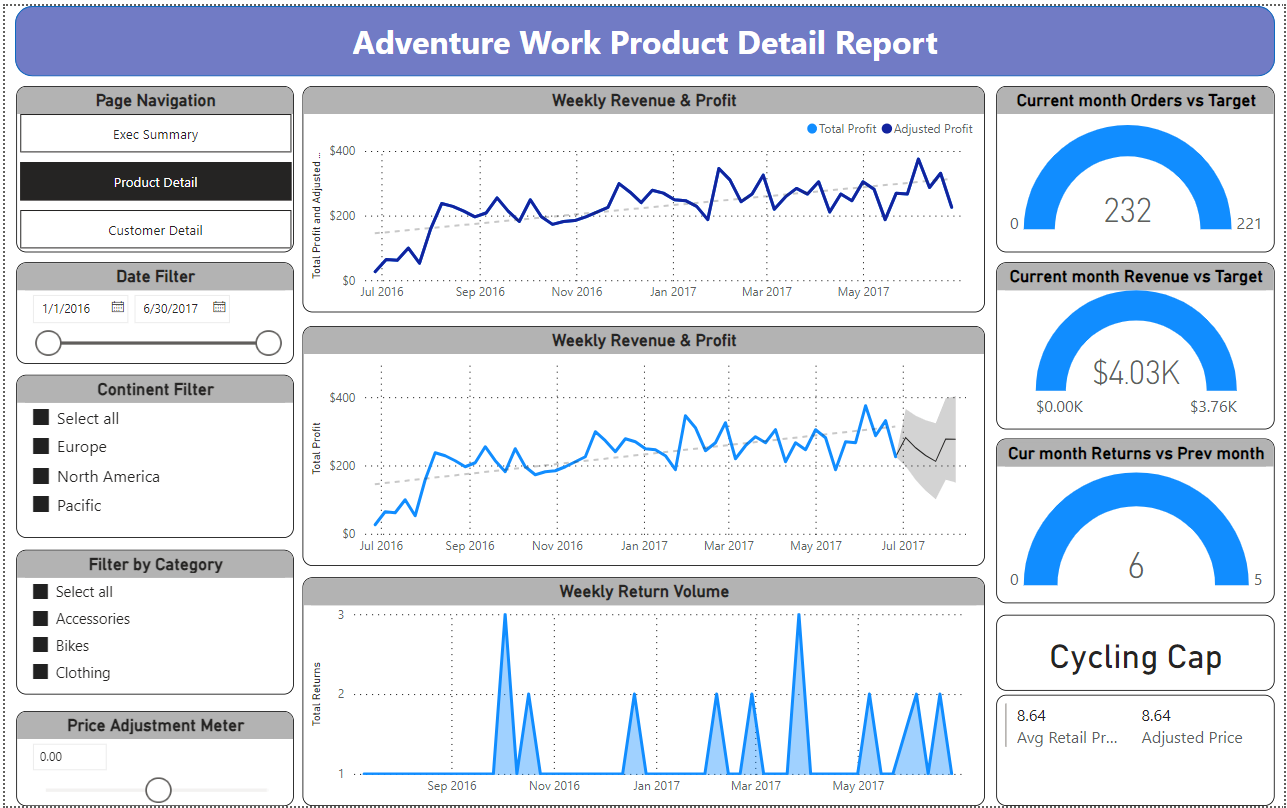

The dashboard page shown, as its layout file describes it:
{"tool":"powerbi","page":{"name":"Product Detail","canvas":[1280,720],"ordinal":1},"visuals":[{"type":"lineChart","title":"Weekly Revenue & Profit","fields":{"Category":["AW_Calendar_Lookup.Start of Week"],"Y":["AW_Sales.Total Profit"]},"box":[288,240,704,240],"z":1000},{"type":"areaChart","title":"Weekly Return Volume","fields":{"Category":["AW_Calendar_Lookup.Start of Week"],"Y":["AW_Returns.Total Returns"]},"box":[288,480,720,240],"z":2000},{"type":"gauge","title":"Current month Orders vs Target","fields":{"Y":["AW_Sales.Total Sales"],"MaxValue":["AW_Sales.Order Target"]},"box":[992,0,288,176],"z":3000},{"type":"gauge","title":"Current month Revenue vs Target","fields":{"Y":["AW_Sales.Total Revenue"],"MaxValue":["AW_Sales.Target Revenue"]},"box":[992,176,288,176],"z":4000},{"type":"gauge","title":"Cur month Returns vs Prev month","fields":{"Y":["AW_Returns.Total Returns"],"MaxValue":["AW_Returns.Prev Month Returns"]},"box":[992,352,288,176],"z":5000},{"type":"card","fields":{"Values":["Min(AW_Products_Lookup.ModelName)"]},"box":[992,528,288,80],"z":6000},{"type":"multiRowCard","fields":{"Values":["AW_Products_Lookup.Avg Retail Price","AW_Products_Lookup.Adjusted Price"]},"box":[992,608,240,112],"z":9000},{"type":"lineChart","title":"Weekly Revenue & Profit","fields":{"Category":["AW_Calendar_Lookup.Start of Week"],"Y":["AW_Sales.Total Profit","AW_Sales.Adjusted Profit"]},"box":[288,0,704,240],"z":10000},{"type":"pageNavigator","title":"Navigation","box":[0,0,288,176],"z":10001},{"type":"slicer","title":"Date Filter","fields":{"Values":["AW_Calendar_Lookup.Date"]},"box":[0,176,288,112],"z":10002},{"type":"slicer","title":"Continent Filter","fields":{"Values":["AW_Territories_Lookup.Continent"]},"box":[0,288,288,176],"z":10003},{"type":"slicer","title":"Filter by Category","fields":{"Values":["AW_Product_Categories_Lookup.CategoryName"]},"box":[0,464,288,160],"z":10004},{"type":"slicer","title":"Price Adjustment Meter","fields":{"Values":["Price Adjustment(%).Price Adjustment(%)"]},"box":[0,608,288,112],"z":10005}]}

Visuals, with their boxes on the page's 1280x720 design canvas (x1, y1, x2, y2). These are canvas units, not pixel positions in the 1287x808 screenshot, which may show the page scaled, cropped or inside an application window:
"Weekly Revenue & Profit" lineChart: [288,240,992,480]
"Weekly Return Volume" areaChart: [288,480,1008,720]
"Current month Orders vs Target" gauge: [992,0,1280,176]
"Current month Revenue vs Target" gauge: [992,176,1280,352]
"Cur month Returns vs Prev month" gauge: [992,352,1280,528]
card - Min(AW_Products_Lookup.ModelName): [992,528,1280,608]
multiRowCard - AW_Products_Lookup.Avg Retail Price x AW_Products_Lookup.Adjusted Price: [992,608,1232,720]
"Weekly Revenue & Profit" lineChart: [288,0,992,240]
"Navigation" pageNavigator: [0,0,288,176]
"Date Filter" slicer: [0,176,288,288]
"Continent Filter" slicer: [0,288,288,464]
"Filter by Category" slicer: [0,464,288,624]
"Price Adjustment Meter" slicer: [0,608,288,720]
